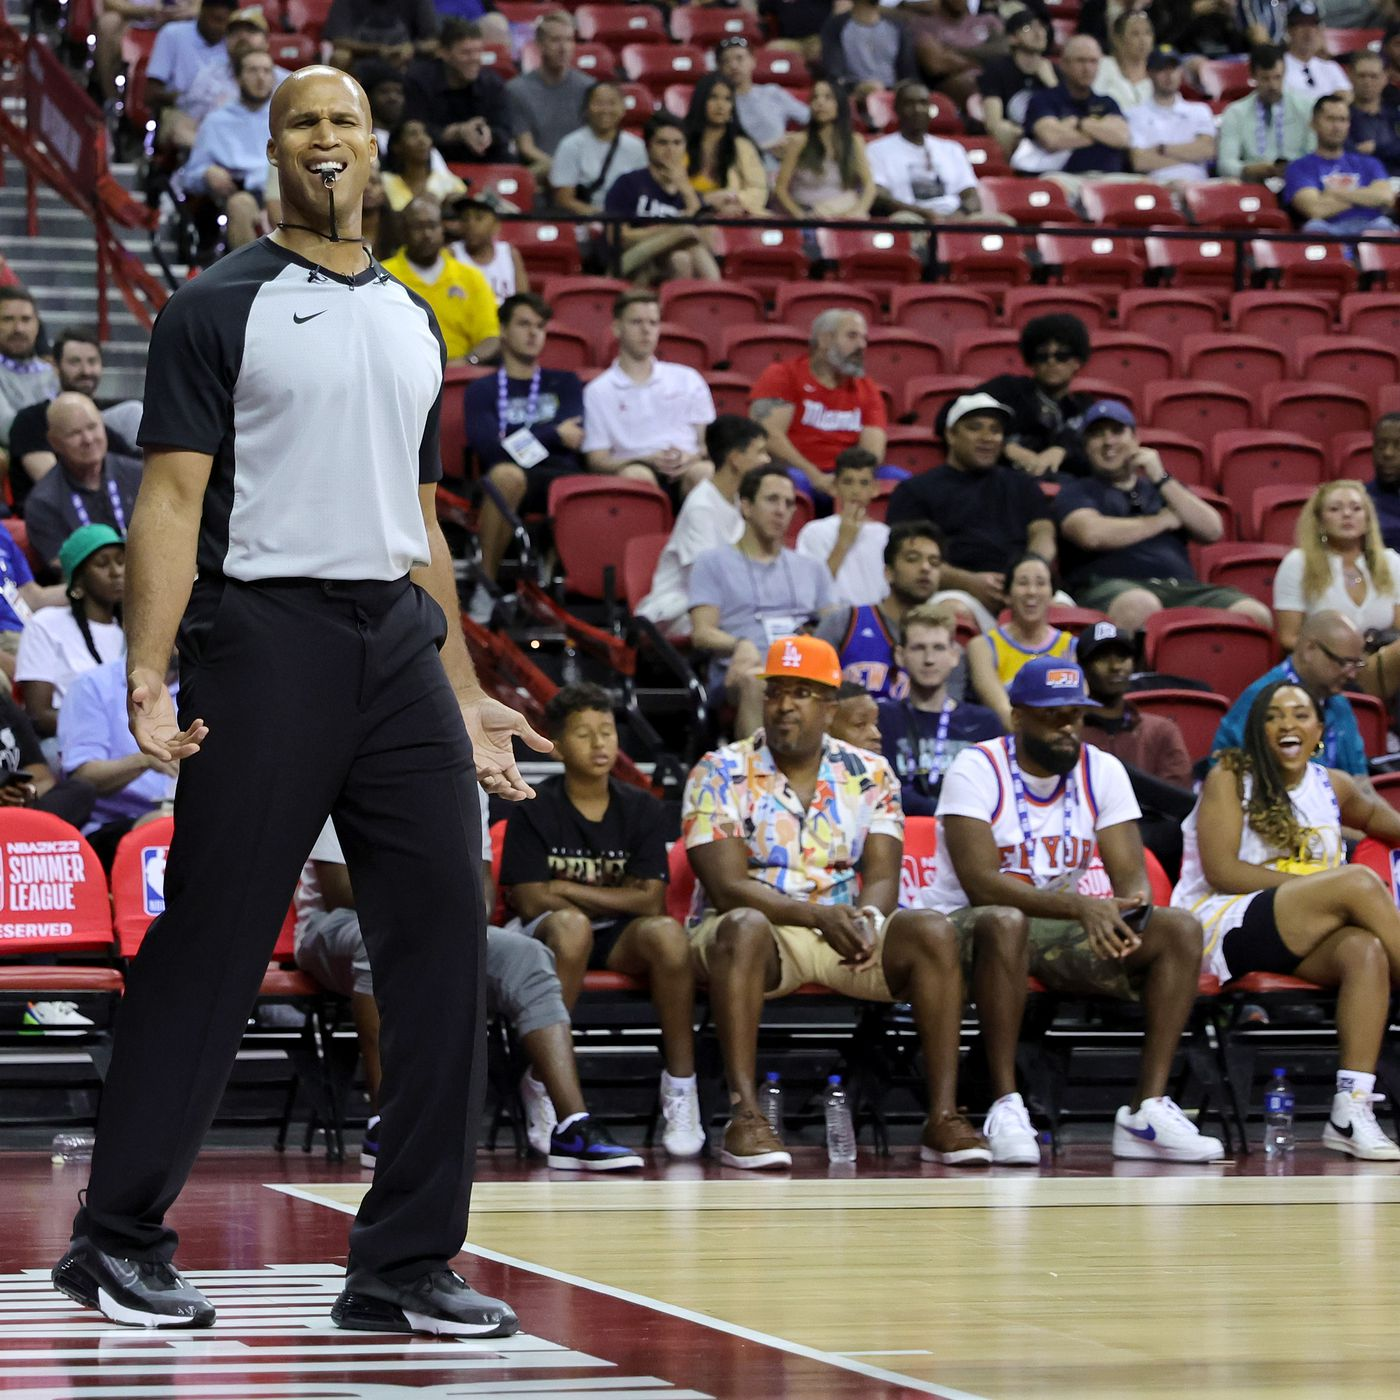face: (237, 70, 416, 240)
referee: (55, 33, 540, 1363)
